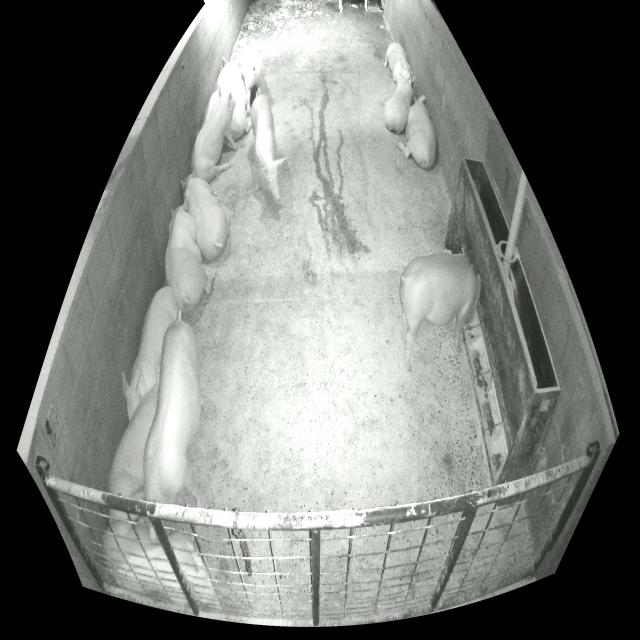pig: (144, 310, 207, 506), (103, 519, 215, 609), (400, 252, 481, 371), (122, 287, 178, 421), (108, 384, 158, 499), (190, 85, 238, 183), (165, 199, 206, 310), (181, 168, 228, 259), (251, 92, 285, 200), (397, 95, 436, 169), (216, 57, 247, 141), (385, 75, 415, 134), (241, 45, 262, 117), (384, 42, 414, 86), (202, 89, 220, 128)
